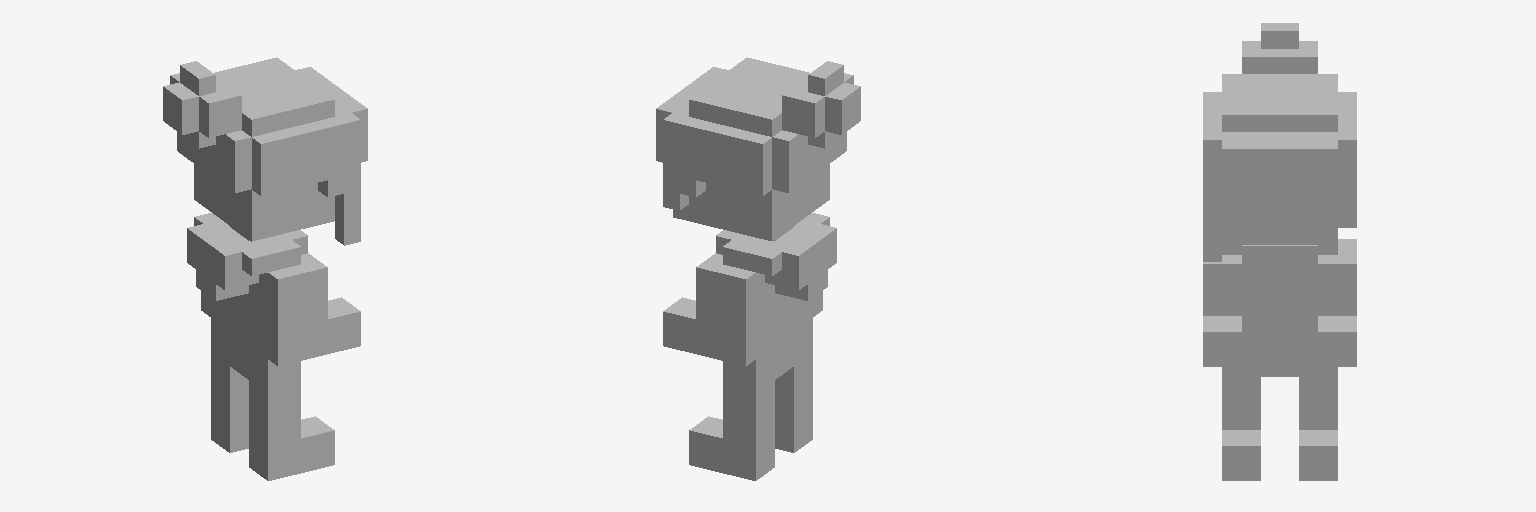
Rendered from jett.obj.
3 renders of one model, left to right at view 1: azimuth 30°, elevation 25°; view 2: azimuth 150°, elevation 25°; view 3: azimuth 270°, elevation 25°, orthographic.
Visible parts, largest first — view 1: mesh; view 2: mesh; view 3: mesh.
Part boxes in pixels (left/top/right/bottom): mesh: left=163, top=57, right=367, bottom=480; mesh: left=656, top=57, right=860, bottom=480; mesh: left=1203, top=23, right=1356, bottom=480.
Size of the model in its own units: 1 by 2.3 by 0.8.